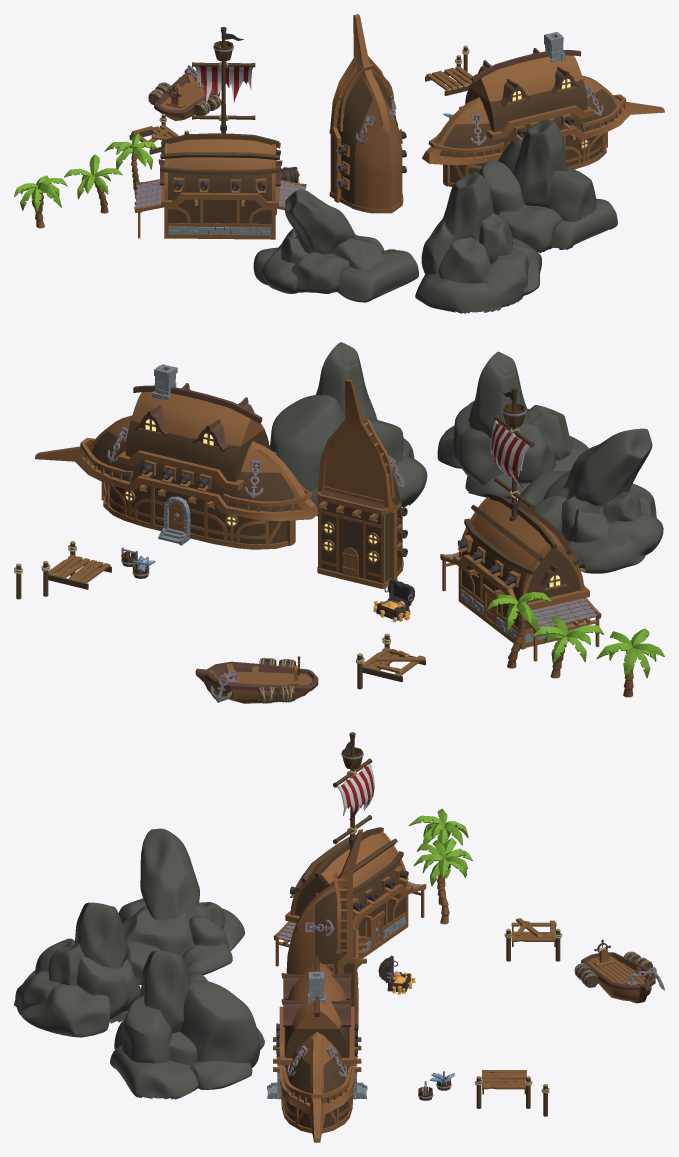
Rendered from Gameboard.glb.
3 views of the same model, one above another, from view 1: azimuth 30°, elevation 25°; view 2: azimuth 150°, elevation 25°; view 3: azimuth 270°, elevation 25° (orthographic). The views are drawn at different scales.
Visible parts, largest first — view 1: Environment_House3, Environment_House1, Environment_Cliff3, Environment_Cliff2, Environment_Cliff4, Environment_House2, Ship_Small, Environment_PalmTree_3, Environment_PalmTree_2, Environment_PalmTree_1, Environment_Dock, Environment_Dock_Broken; view 2: Environment_House1, Environment_House3, Environment_House2, Environment_Cliff4, Environment_Cliff3, Environment_Cliff2, Ship_Small, Environment_Dock, Environment_PalmTree_3, Environment_Dock_Broken, Environment_PalmTree_2, Environment_PalmTree_1 (+1 smaller); view 3: Environment_Cliff2, Environment_House1, Environment_Cliff3, Environment_House3, Environment_Cliff4, Environment_House2, Ship_Small, Environment_PalmTree_1, Environment_Dock, Environment_Dock_Broken, Environment_PalmTree_3, Prop_Chest_Gold.
Part boxes in pixels (x1,y1,x2,y2): Environment_House3: (134,27,306,239); Environment_House1: (422,32,664,186); Environment_Cliff3: (415,172,541,313); Environment_Cliff2: (479,119,617,253); Environment_Cliff4: (253,189,418,302); Environment_House2: (329,14,406,213); Ship_Small: (148,65,221,120); Environment_PalmTree_3: (14,175,67,228); Environment_PalmTree_2: (64,154,122,213); Environment_PalmTree_1: (104,133,157,199); Environment_Dock: (425,55,472,95); Environment_Dock_Broken: (129,113,189,154); Environment_House1: (35,364,317,549); Environment_House3: (440,387,601,661); Environment_House2: (317,379,407,588); Environment_Cliff4: (517,428,663,573); Environment_Cliff3: (437,351,588,499); Environment_Cliff2: (269,342,427,516); Ship_Small: (195,656,318,703); Environment_Dock: (41,541,111,596); Environment_PalmTree_3: (596,628,664,697); Environment_Dock_Broken: (356,633,425,689); Environment_PalmTree_2: (532,615,603,678); Environment_PalmTree_1: (487,592,551,668); Environment_Cliff2: (110,950,264,1099); Environment_House1: (267,956,367,1142); Environment_Cliff3: (14,902,140,1037); Environment_House3: (273,732,426,966); Environment_Cliff4: (118,828,244,984); Environment_House2: (286,829,366,1029); Ship_Small: (574,939,664,1003); Environment_PalmTree_1: (413,840,468,924); Environment_Dock: (474,1070,532,1108); Environment_Dock_Broken: (504,918,562,961); Environment_PalmTree_3: (408,808,468,845); Prop_Chest_Gold: (378,955,415,994).
Size of the model in its own units: 33.69 by 10.68 by 29.88.
Materials: 2 (1 with a texture image).
